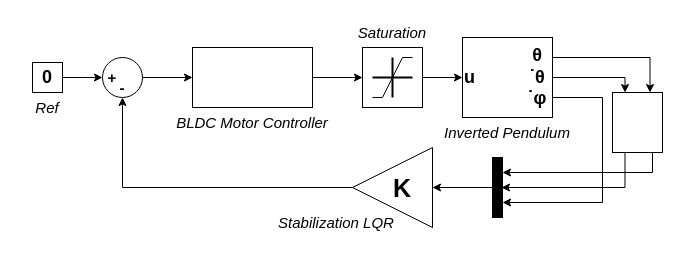
The diagram is 680 pixels wide and 254 high, and some of its shapes have lost their labels. The shapes that lost their labels are listed below. From the top down, each one's centre as x and y in pixels, then its label:
At pixel 252 77: "FOC".
At pixel 637 122: "Kalman Filter".
